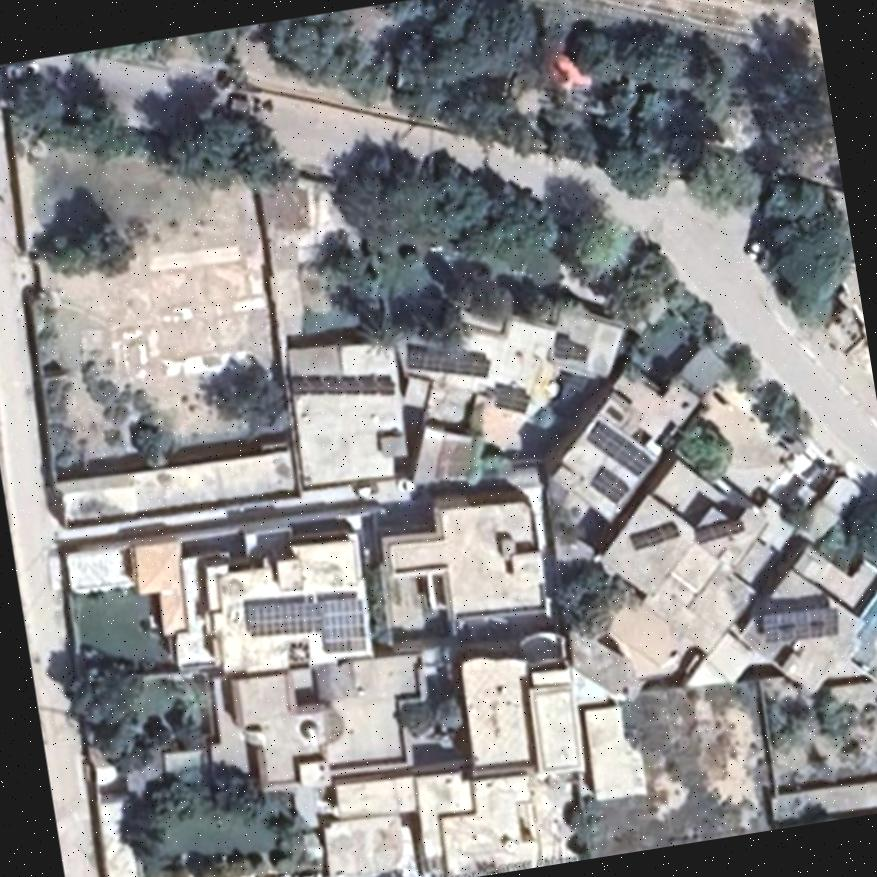Solarpanel: (588, 421, 650, 474), (761, 606, 841, 642), (406, 345, 489, 378), (320, 597, 368, 651), (247, 601, 323, 633), (288, 372, 394, 394), (634, 521, 682, 552), (590, 470, 628, 505), (698, 517, 743, 543), (549, 337, 589, 360), (490, 385, 531, 407)
